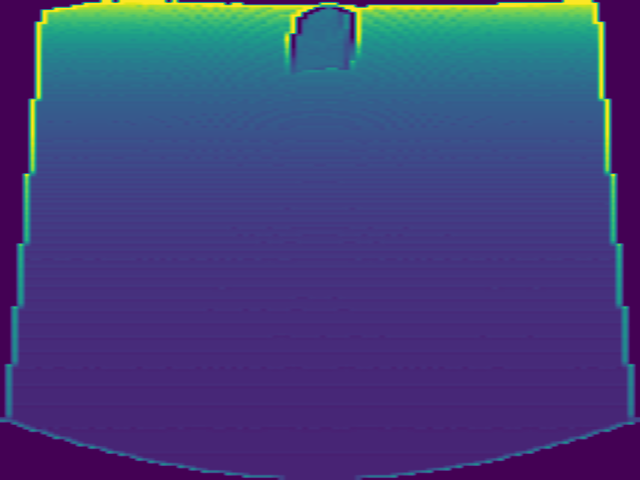car_0027: (280, 4, 365, 78)
